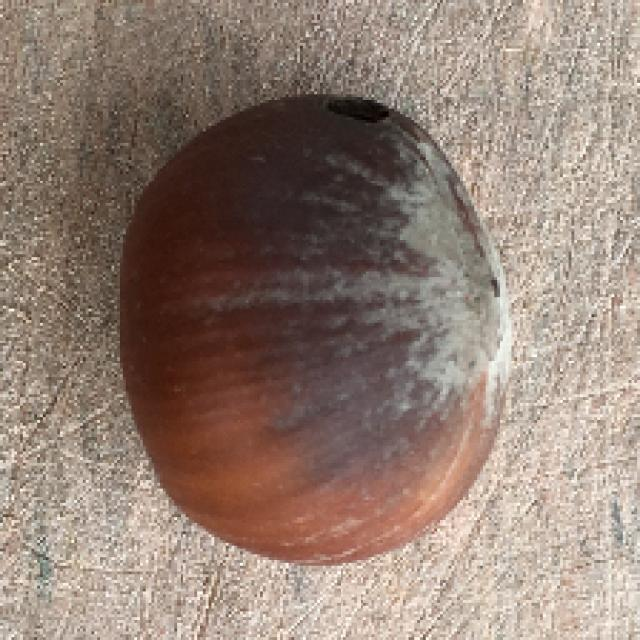damagedHazelnut: (119, 91, 512, 578)
